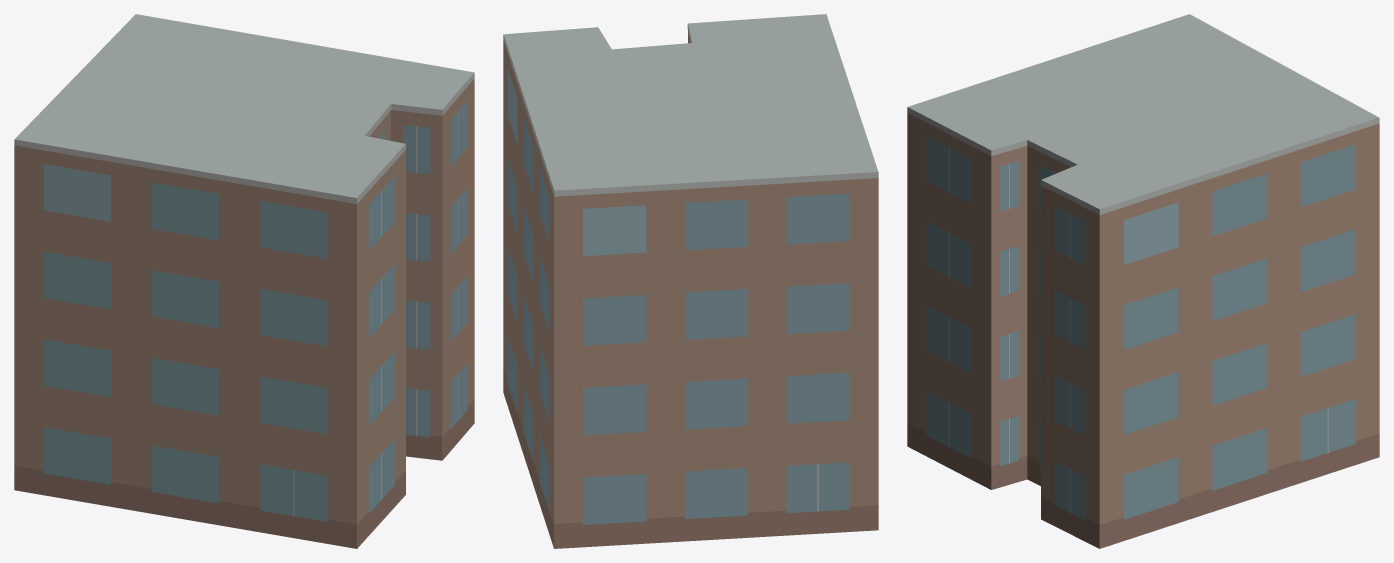
Rendered from survey-upis-32848091.glb.
3 renders of one model, left to right at view 1: azimuth 30°, elevation 25°; view 2: azimuth 150°, elevation 25°; view 3: azimuth 270°, elevation 25°, orthographic. The views are drawn at different scales.
Visible parts, largest first — view 1: survey-upis-32848091.tmp; view 2: survey-upis-32848091.tmp; view 3: survey-upis-32848091.tmp.
Part boxes in pixels (x1,y1,x2,y2): survey-upis-32848091.tmp: (14, 14, 474, 548); survey-upis-32848091.tmp: (503, 14, 878, 548); survey-upis-32848091.tmp: (907, 14, 1379, 548).
Size of the model in its own units: 17.78 by 14.4 by 18.16.
